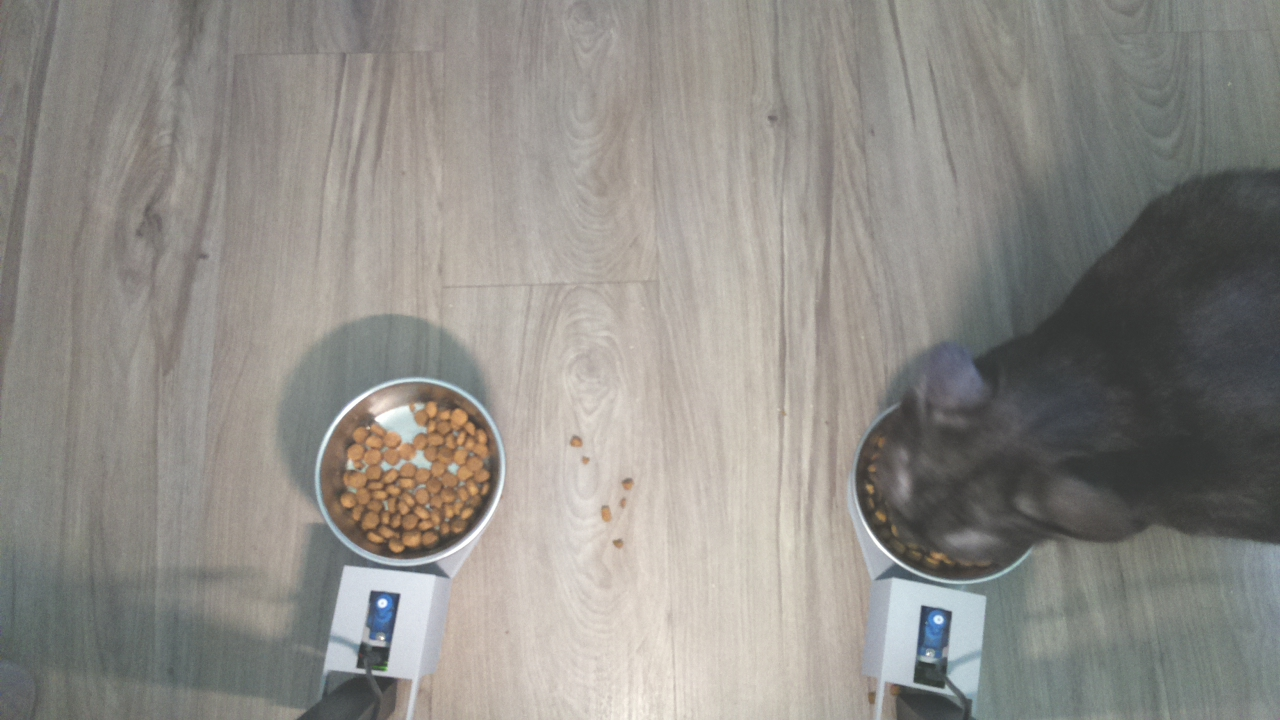open_bowl: (312, 375, 507, 573)
saki_eating: (847, 335, 1157, 592)
